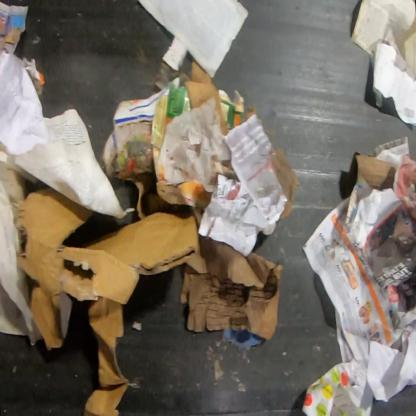cardboard: (15, 186, 198, 416), (180, 242, 284, 341), (181, 71, 227, 136), (271, 148, 299, 219), (355, 153, 396, 190), (217, 88, 245, 132), (190, 57, 212, 87)
